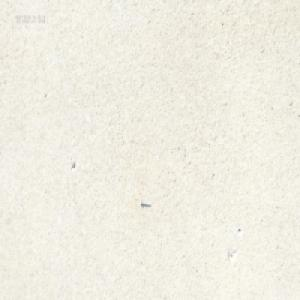Nail: (140, 200, 151, 207)
